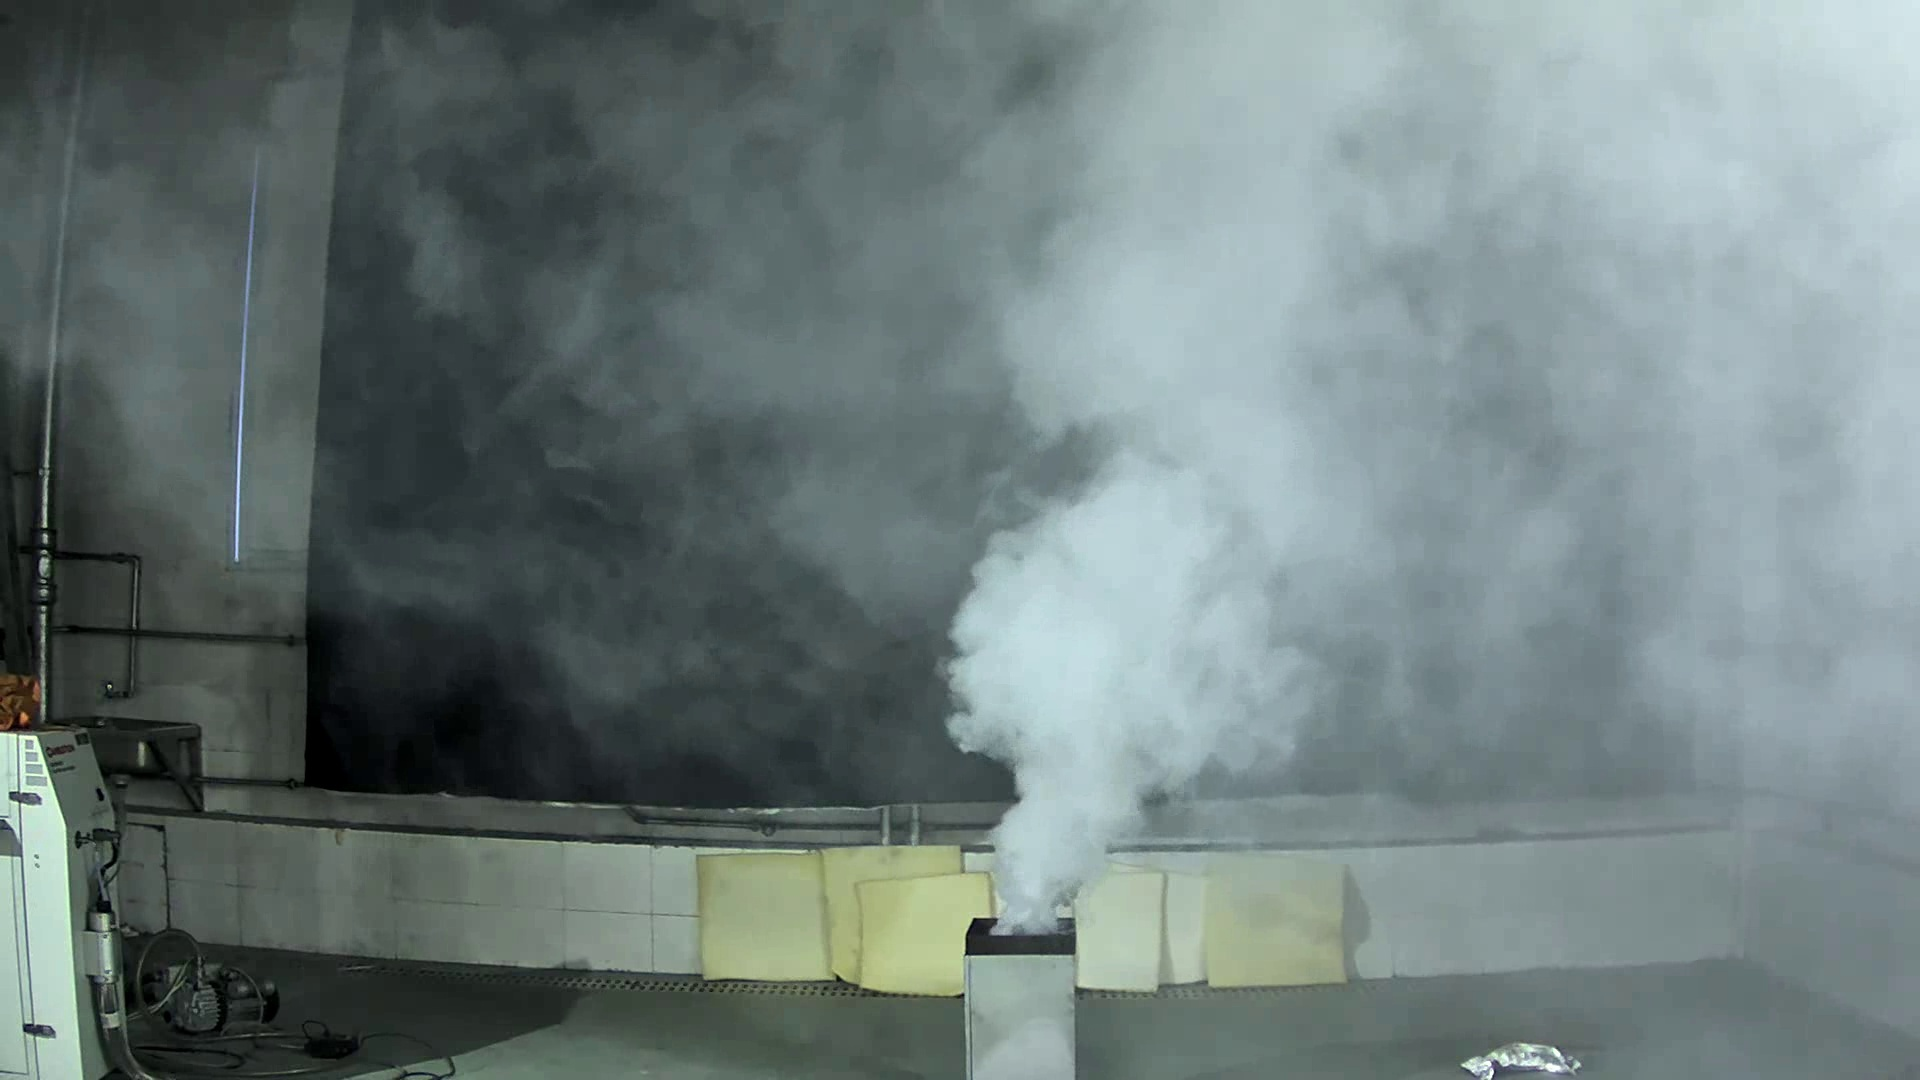smoke: (895, 88, 1495, 926)
